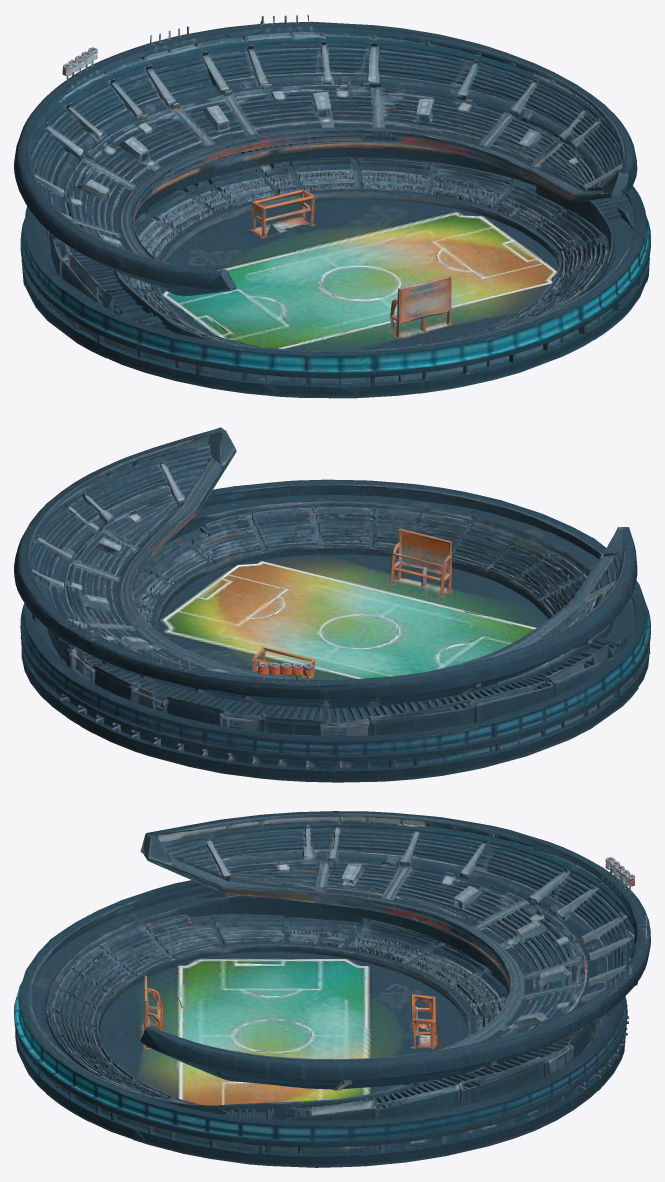
File: stadiumArena.40b48b71.glb
3 views of the same model, one above another, from view 1: azimuth 30°, elevation 25°; view 2: azimuth 150°, elevation 25°; view 3: azimuth 270°, elevation 25° (orthographic). The views are drawn at different scales.
Parts seen in each view (by area): view 1: output_unwrapped; view 2: output_unwrapped; view 3: output_unwrapped.
Part boxes in pixels (x1=…): output_unwrapped: x1=14, y1=14, x2=650, y2=398; output_unwrapped: x1=14, y1=427, x2=650, y2=782; output_unwrapped: x1=14, y1=811, x2=650, y2=1167.
Bounding box in the file's own units: 1.85 × 0.4044 × 1.9.
1 material, 1 textured.
